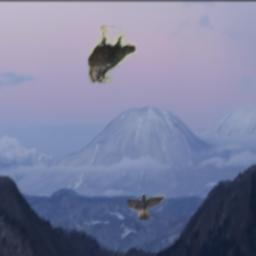Crow: (87, 26, 136, 83)
Swallow: (126, 194, 165, 221)
